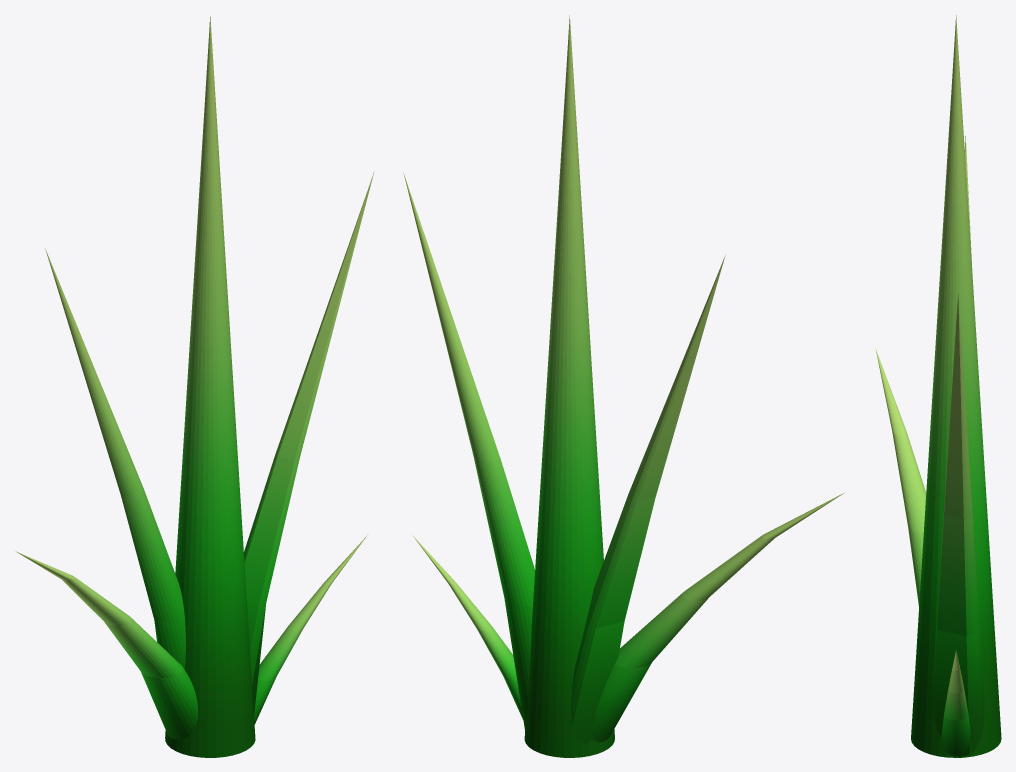
3 renders of one model, left to right at view 1: azimuth 30°, elevation 25°; view 2: azimuth 150°, elevation 25°; view 3: azimuth 270°, elevation 25°, orthographic.
Visible parts, largest first — view 1: 圓錐體, 圓錐體.001, 圓錐體.007, 圓錐體.005, 圓錐體.006; view 2: 圓錐體, 圓錐體.007, 圓錐體.001, 圓錐體.005, 圓錐體.006; view 3: 圓錐體, 圓錐體.001, 圓錐體.005, 圓錐體.006.
Part boxes in pixels (x1=…): 圓錐體: x1=165, y1=16, x2=255, y2=757; 圓錐體.001: x1=244, y1=171, x2=374, y2=715; 圓錐體.007: x1=45, y1=248, x2=185, y2=669; 圓錐體.005: x1=15, y1=551, x2=198, y2=739; 圓錐體.006: x1=254, y1=534, x2=368, y2=724; 圓錐體: x1=524, y1=15, x2=614, y2=757; 圓錐體.007: x1=571, y1=255, x2=725, y2=743; 圓錐體.001: x1=403, y1=173, x2=534, y2=730; 圓錐體.005: x1=592, y1=493, x2=843, y2=742; 圓錐體.006: x1=412, y1=535, x2=523, y2=719; 圓錐體: x1=911, y1=15, x2=1001, y2=757; 圓錐體.001: x1=932, y1=293, x2=984, y2=757; 圓錐體.005: x1=875, y1=349, x2=926, y2=606; 圓錐體.006: x1=941, y1=650, x2=970, y2=756.
Size of the model in its own units: 5.13 by 1.39 by 8.83.
Materials: 5 (5 with a texture image).
